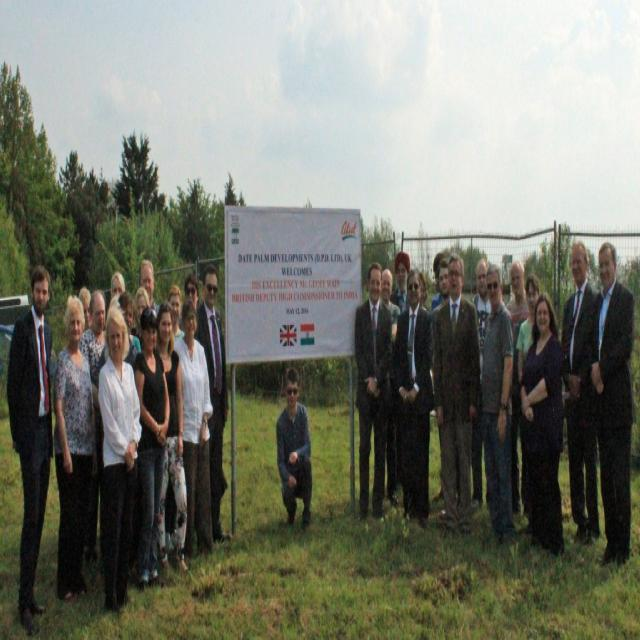body: (6, 263, 54, 636), (585, 234, 636, 569), (50, 291, 97, 603), (432, 250, 482, 533), (558, 238, 603, 550), (97, 305, 142, 610), (518, 289, 567, 559), (171, 296, 214, 560), (393, 265, 435, 533), (477, 263, 516, 545), (352, 255, 392, 528), (132, 306, 170, 589), (154, 302, 190, 576), (194, 263, 228, 549), (77, 289, 108, 565), (430, 258, 462, 500), (274, 365, 313, 535), (506, 260, 530, 524), (163, 283, 185, 554), (468, 256, 491, 512), (516, 274, 540, 383), (118, 290, 142, 369), (381, 266, 401, 345), (130, 286, 152, 352), (389, 250, 411, 315), (138, 258, 161, 315), (77, 285, 94, 329), (435, 259, 449, 310), (184, 273, 200, 315), (109, 269, 127, 300), (417, 270, 429, 313), (109, 292, 120, 308)
